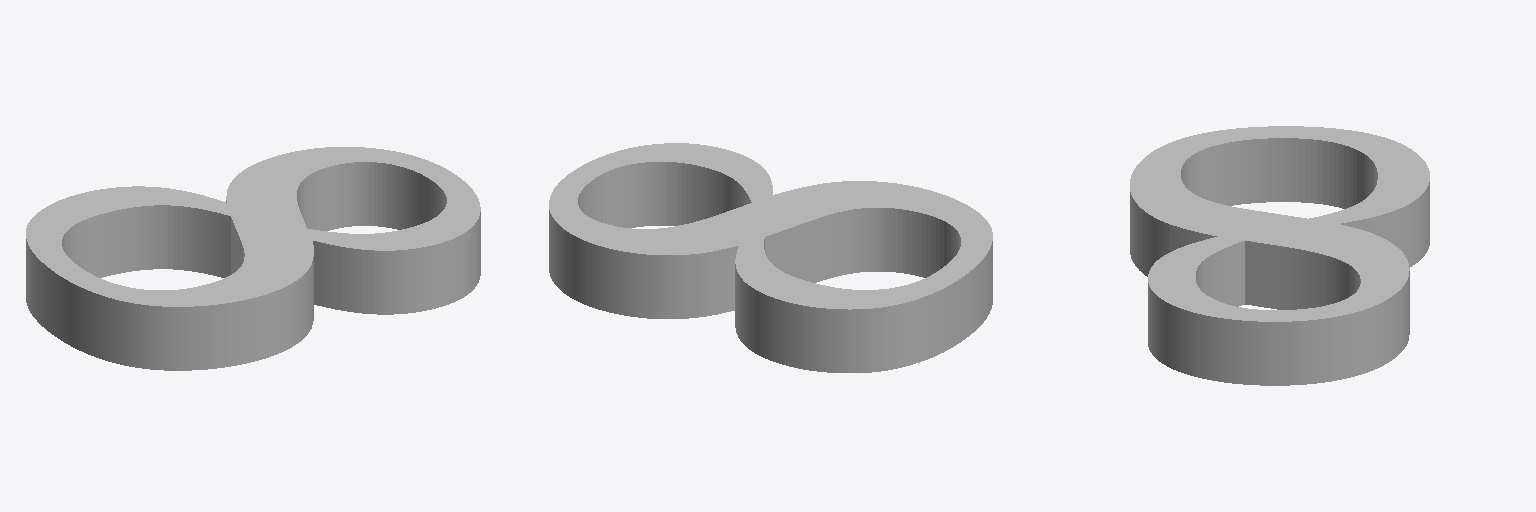
The model's file is number8.obj.
3 views of the same model, side by side, from view 1: azimuth 30°, elevation 25°; view 2: azimuth 150°, elevation 25°; view 3: azimuth 270°, elevation 25° (orthographic).
Visible parts, largest first — view 1: Text.030; view 2: Text.030; view 3: Text.030.
Part boxes in pixels (x1,y1,x2,y2): Text.030: (26, 147, 480, 370); Text.030: (549, 143, 992, 372); Text.030: (1130, 126, 1429, 385).
Bounding box in the file's own units: 1.05 × 0.1602 × 0.6828.